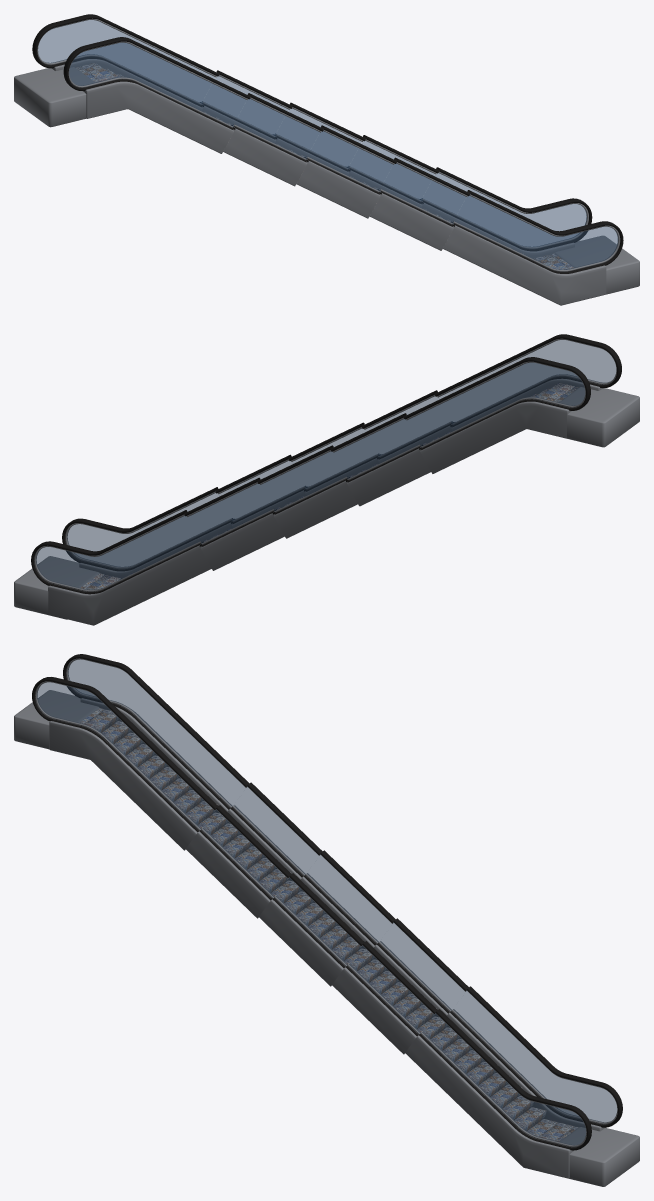
Rendered from mall_escalator_lane_new_optimised.glb.
The picture shows the model from 3 angles, top to bottom: view 1: azimuth 30°, elevation 25°; view 2: azimuth 150°, elevation 25°; view 3: azimuth 330°, elevation 25°; orthographic projection.
Parts seen in each view (by area): view 1: part8, part1, part10, part3, part9, part11, part7, part2, part0, part4; view 2: part10, part2, part8, part3, part11, part9, part1, part0, part7, part4; view 3: part8, part10, part1, part4, part9, part11, part3, part2, part7, part0.
Part boxes in pixels (left/top/right/bottom): part8: left=69, top=42, right=618, bottom=269; part1: left=83, top=81, right=606, bottom=305; part10: left=38, top=20, right=587, bottom=246; part3: left=14, top=67, right=639, bottom=294; part9: left=63, top=37, right=623, bottom=273; part11: left=32, top=14, right=592, bottom=251; part7: left=68, top=41, right=620, bottom=271; part2: left=52, top=59, right=574, bottom=258; part0: left=37, top=18, right=588, bottom=249; part4: left=80, top=63, right=524, bottom=254; part10: left=36, top=362, right=585, bottom=589; part2: left=48, top=401, right=571, bottom=625; part8: left=67, top=340, right=616, bottom=566; part3: left=14, top=387, right=639, bottom=619; part11: left=31, top=357, right=590, bottom=594; part9: left=62, top=334, right=621, bottom=571; part1: left=79, top=378, right=602, bottom=578; part0: left=34, top=361, right=585, bottom=591; part7: left=65, top=338, right=616, bottom=569; part4: left=130, top=383, right=574, bottom=574; part8: left=37, top=682, right=586, bottom=1145; part10: left=68, top=659, right=617, bottom=1122; part1: left=49, top=721, right=574, bottom=1178; part4: left=85, top=709, right=546, bottom=1130; part9: left=32, top=677, right=591, bottom=1150; part11: left=63, top=654, right=622, bottom=1127; part3: left=14, top=690, right=639, bottom=1186; part2: left=80, top=698, right=605, bottom=1131; part7: left=35, top=681, right=586, bottom=1147; part0: left=66, top=658, right=617, bottom=1124.
Bounding box in the file's own units: 13.65 × 8.23 × 1.5.
12 materials, 3 textured.
